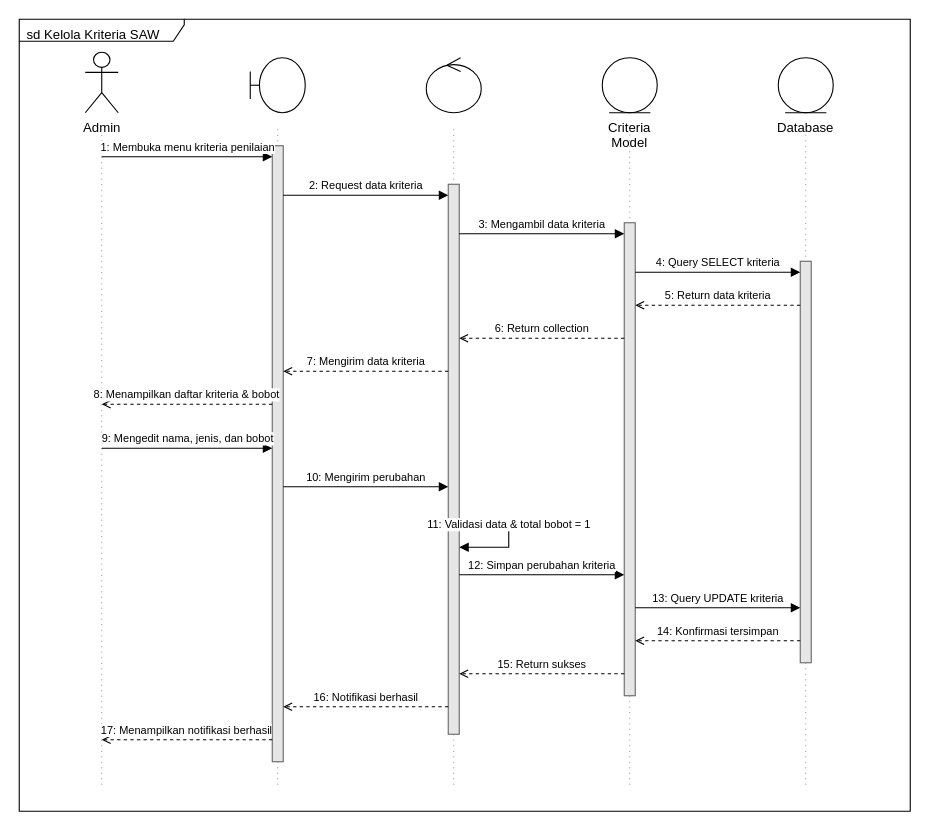
Image size: 930x831. Some labels were removed from this diagram. Here are the shapes that lost their labels. From the top down, the centre of each, then its label:
At (x=277, y=85): "Halaman Kriteria".
At (x=453, y=85): "CriteriaController".
